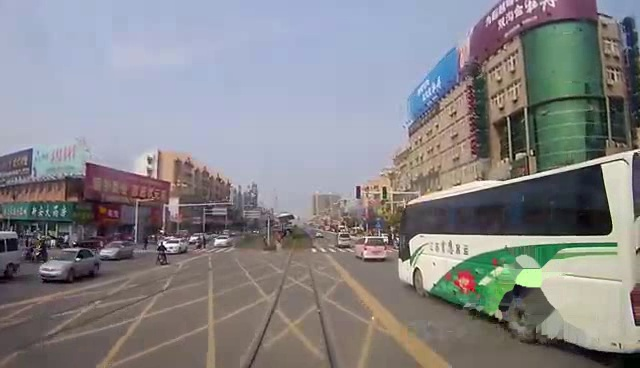bus: (395, 148, 640, 362)
car: (39, 246, 101, 284), (353, 235, 392, 262), (96, 237, 136, 262), (162, 235, 190, 254)
motorcycle: (156, 243, 171, 266)
